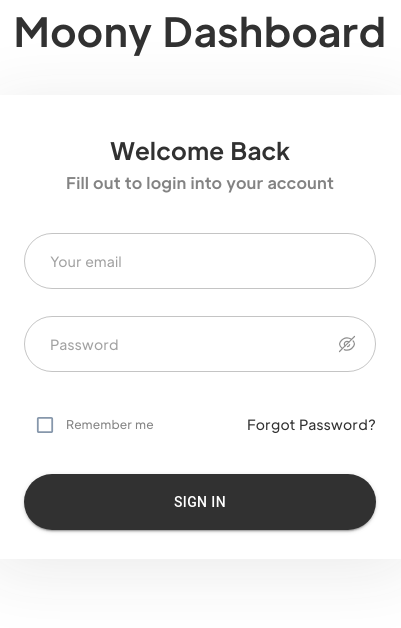
Test case: SignIn Container test › empty credentials should show error message
This screenshot has width=401, height=628.
Click the button "Sign In".
click(200, 502)  # box [24, 474, 376, 530]
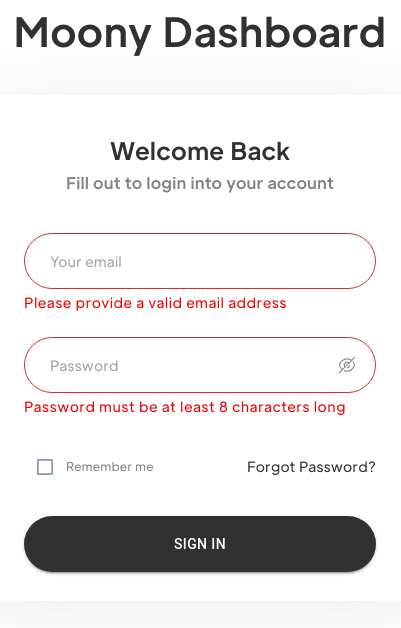
Expected: the text "Please provide a valid email address" is shown, [24, 293, 287, 311]
Expected: the text "Password must be at least 8 characters long" is shown, [24, 396, 376, 417]
